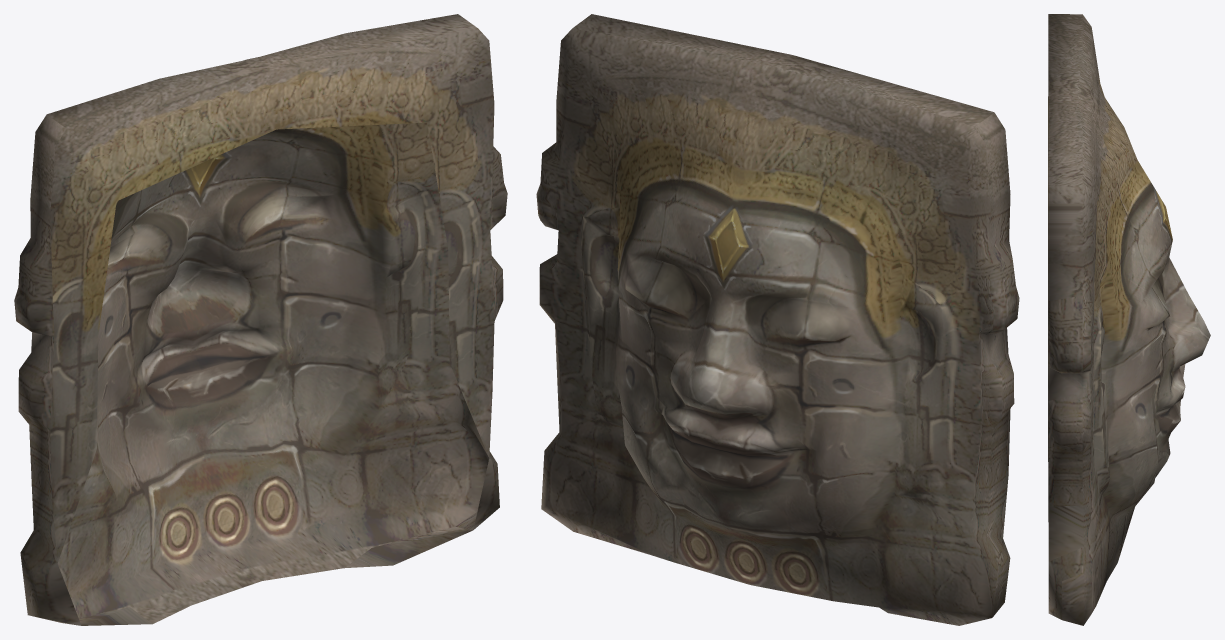
Rendered from stone_face.FBX.
3 renders of one model, left to right at view 1: azimuth 30°, elevation 25°; view 2: azimuth 150°, elevation 25°; view 3: azimuth 270°, elevation 25°, orthographic. The views are drawn at different scales.
Parts seen in each view (by area): view 1: stone_face; view 2: stone_face; view 3: stone_face.
Boxes of the visible parts, bbox=[...] form: stone_face: bbox=[14, 14, 507, 625]; stone_face: bbox=[536, 14, 1019, 625]; stone_face: bbox=[1048, 14, 1210, 625].
Bounding box in the file's own units: 5.45 × 5.69 × 1.87.
